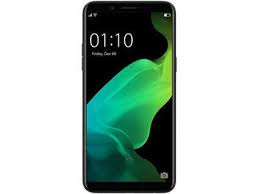oppo: (79, 1, 178, 194)
